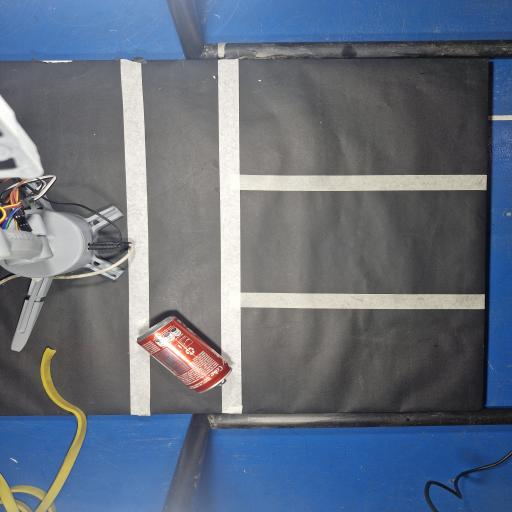lata: (137, 316, 232, 393)
